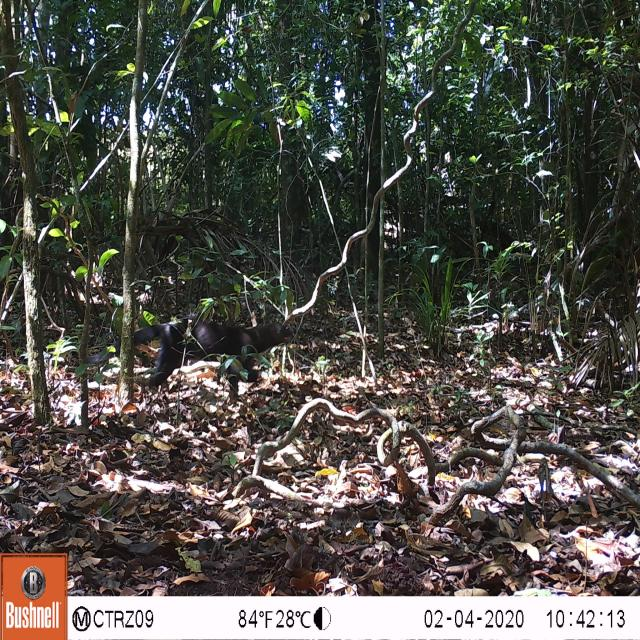Tayra: (79, 314, 293, 391)
